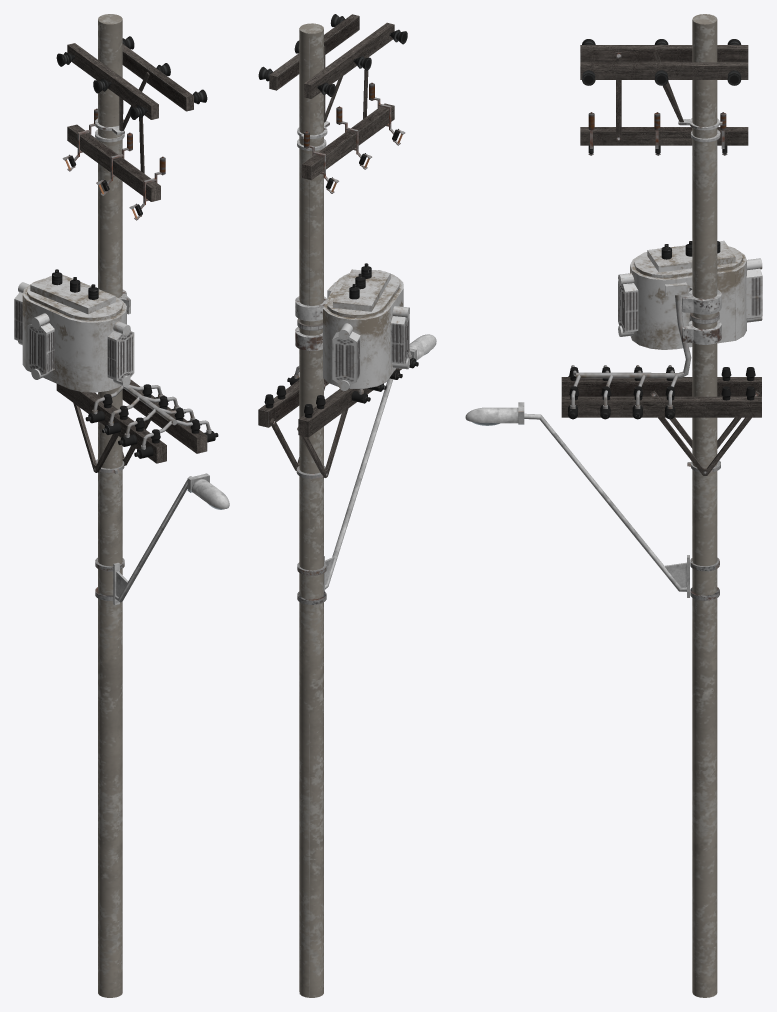
The model's file is power_pole_3d_game_asset.glb.
3 renders of one model, left to right at view 1: azimuth 30°, elevation 25°; view 2: azimuth 150°, elevation 25°; view 3: azimuth 270°, elevation 25°, orthographic.
Parts seen in each view (by area): view 1: pole_base_low.001, wood_base_low.001, qad_zio_base_low.001, qad_zio_low.001, qad_zio_roof_low.001, tubes_low.001, zio_con_low.001, tube_pillar_low.001, light_body_low.001, tube_zio_low.001, wood_vpillar_low.001, light_pillar_low.001 (+1 smaller); view 2: pole_base_low.001, wood_base_low.001, qad_zio_base_low.001, qad_zio_low.001, qad_zio_roof_low.001, light_pillar_low.001, wood_vpillar_low.001, metal_base_low.008, zio_con_low.001, metal_shape_low.001, tube_zio_low.001, tube_pillar_low.001 (+1 smaller); view 3: pole_base_low.001, wood_base_low.001, qad_zio_base_low.001, qad_zio_low.001, metal_base_low.008, wood_vpillar_low.001, light_pillar_low.001, tube_pillar_low.001, qad_zio_roof_low.001, tube_low.001, light_body_low.001, zio_con_low.001.
Part boxes in pixels (x1,y1,x2,y2): pole_base_low.001: (98,14,122,997); wood_base_low.001: (56,43,207,463); qad_zio_base_low.001: (22,278,126,392); qad_zio_low.001: (14,282,134,387); qad_zio_roof_low.001: (30,274,115,314); tubes_low.001: (92,384,211,449); zio_con_low.001: (56,36,207,119); tube_pillar_low.001: (103,384,200,443); light_body_low.001: (187,473,229,509); tube_zio_low.001: (85,395,218,458); wood_vpillar_low.001: (73,403,152,472); light_pillar_low.001: (115,476,191,602); pole_base_low.001: (299,23,323,997); wood_base_low.001: (258,14,401,437); qad_zio_base_low.001: (323,270,403,388); qad_zio_low.001: (332,270,409,390); qad_zio_roof_low.001: (333,269,390,311); light_pillar_low.001: (325,378,393,589); wood_vpillar_low.001: (270,382,348,477); metal_base_low.008: (295,296,327,350); zio_con_low.001: (258,14,407,96); metal_shape_low.001: (308,97,394,181); tube_zio_low.001: (287,358,418,403); tube_pillar_low.001: (264,385,349,417); pole_base_low.001: (692,14,717,997); wood_base_low.001: (561,45,761,417); qad_zio_base_low.001: (630,246,746,349); qad_zio_low.001: (618,258,762,336); metal_base_low.008: (682,287,721,344); wood_vpillar_low.001: (650,390,759,475); light_pillar_low.001: (524,413,686,591); tube_pillar_low.001: (569,367,755,400); qad_zio_roof_low.001: (647,240,735,272); tube_low.001: (576,295,691,378); light_body_low.001: (465,402,524,425); zio_con_low.001: (582,39,741,85).
Size of the model in its own units: 1.4 by 10.1 by 2.79.
1 material, 1 textured.
